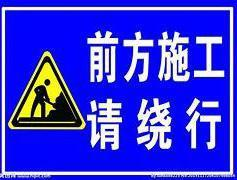sign: (1, 3, 235, 178)
